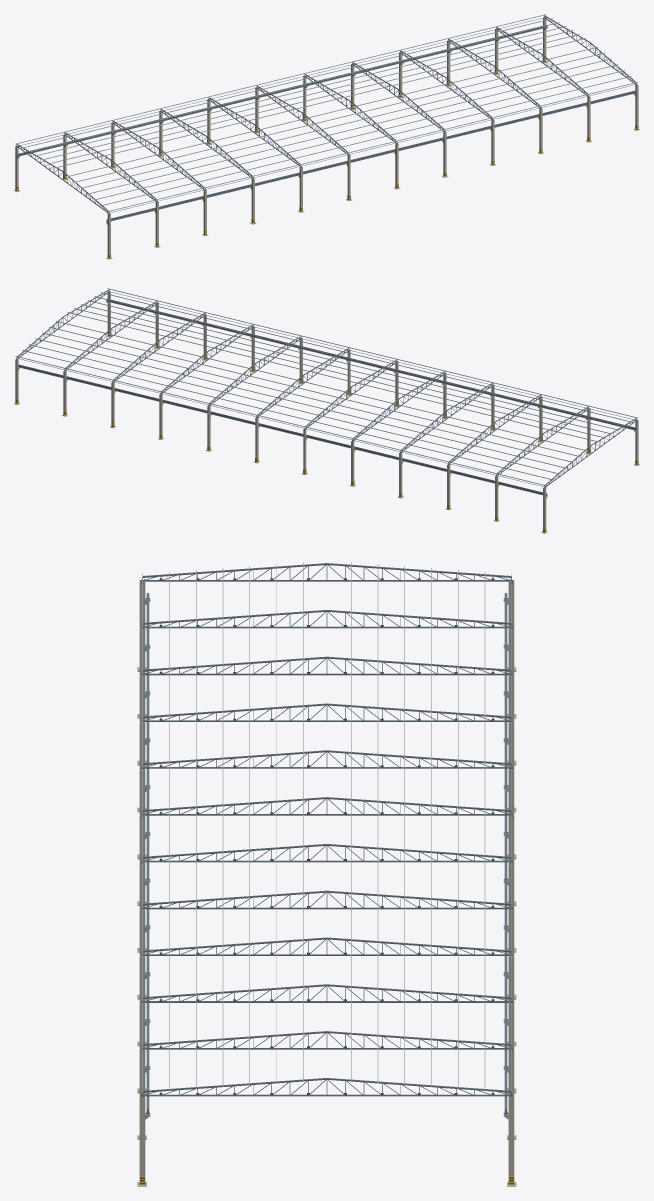
File: barracao_estrutura.glb
The picture shows the model from 3 angles, top to bottom: view 1: azimuth 30°, elevation 25°; view 2: azimuth 150°, elevation 25°; view 3: azimuth 270°, elevation 25°; orthographic projection. The views are drawn at different scales.
Parts seen in each view (by area): view 1: barracao_estrutura; view 2: barracao_estrutura; view 3: barracao_estrutura.
Part boxes in pixels (bbox=[...]): barracao_estrutura: bbox=[14, 14, 639, 259]; barracao_estrutura: bbox=[14, 288, 639, 533]; barracao_estrutura: bbox=[137, 562, 516, 1186].
Bounding box in the file's own units: 133 × 12.76 × 41.
